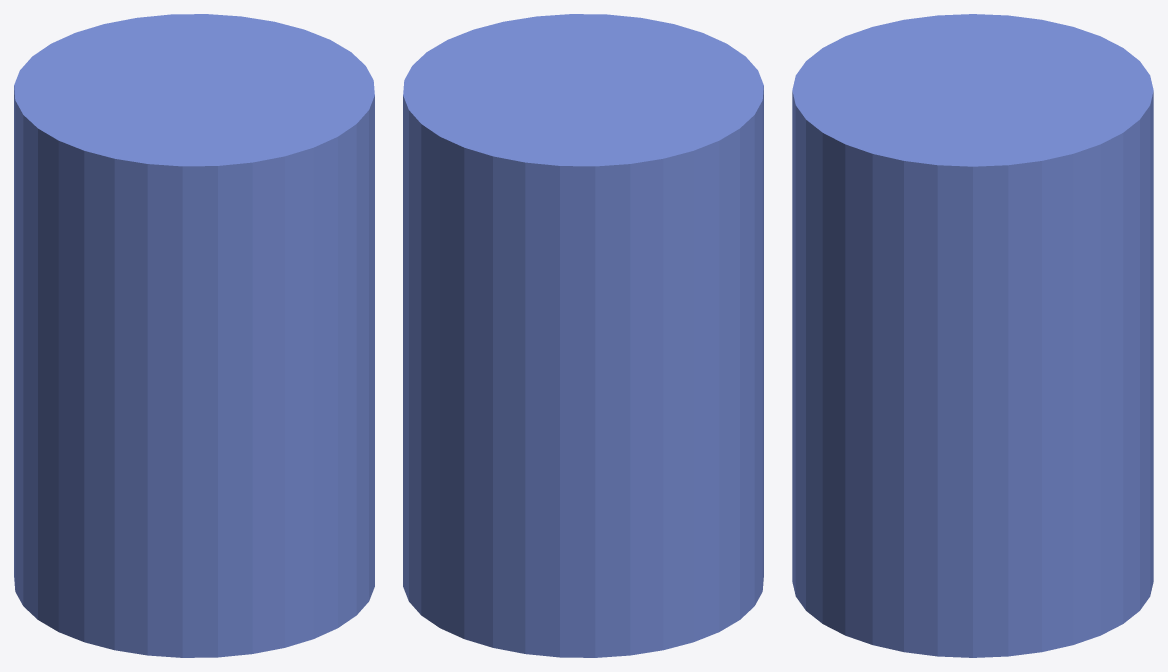
The model's file is player.glb.
3 renders of one model, left to right at view 1: azimuth 30°, elevation 25°; view 2: azimuth 150°, elevation 25°; view 3: azimuth 270°, elevation 25°, orthographic.
Visible parts, largest first — view 1: Cylinder; view 2: Cylinder; view 3: Cylinder.
Part boxes in pixels (x1,y1,x2,y2): Cylinder: (14,14,374,657); Cylinder: (403,14,763,657); Cylinder: (792,14,1153,657).
Bounding box in the file's own units: 2 × 3 × 2.
